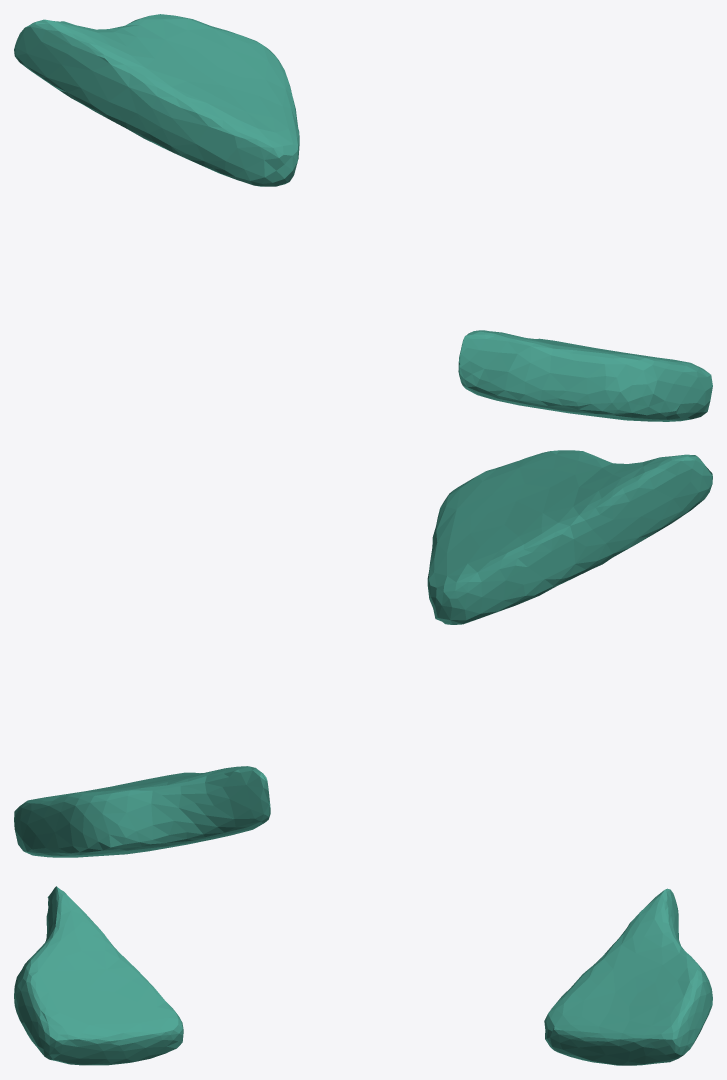
3 views of the same model, one above another, from view 1: azimuth 30°, elevation 25°; view 2: azimuth 150°, elevation 25°; view 3: azimuth 270°, elevation 25° (orthographic). The views are drawn at different scales.
Visible parts, largest first — view 1: 113.obj; view 2: 113.obj; view 3: 113.obj.
Boxes of the visible parts, x1,y1,x2,y2 form: 113.obj: (14,14,712,421); 113.obj: (14,450,712,857); 113.obj: (14,886,712,1065).
Bounding box in the file's own units: 1413 × 810 × 4667.
